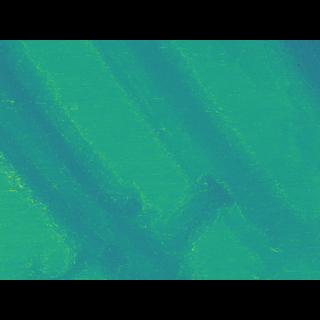Loch: (84, 69, 320, 246), (0, 70, 227, 252)
